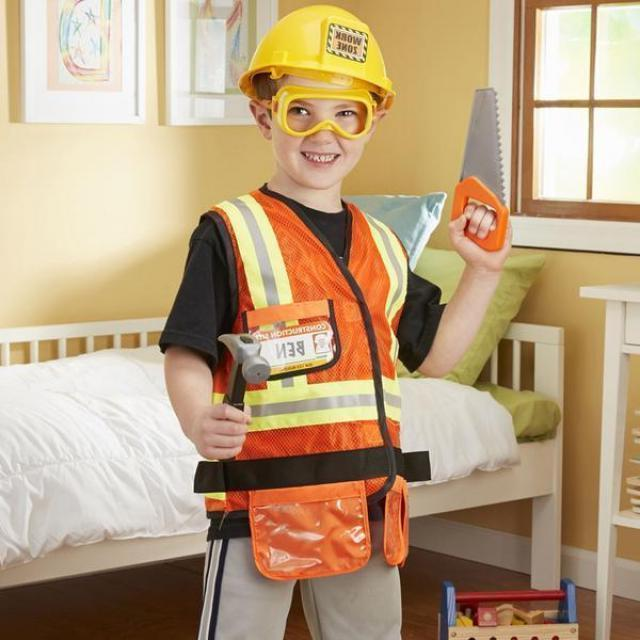goggles: (272, 85, 375, 139)
helmet: (234, 3, 399, 114)
safety_vest: (203, 194, 411, 578)
